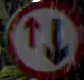Two way: (6, 5, 83, 78)
